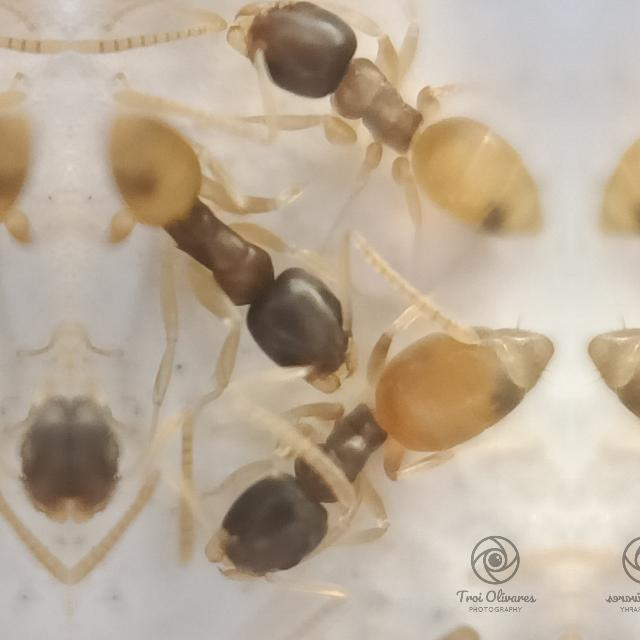Tapinoma: (152, 194, 568, 634), (204, 3, 566, 290), (106, 102, 380, 384)
